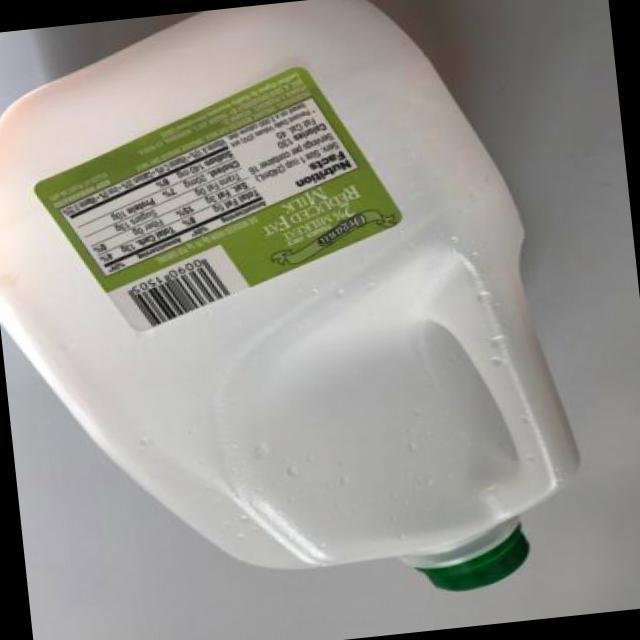HDPE Plastic: (0, 2, 587, 597)
